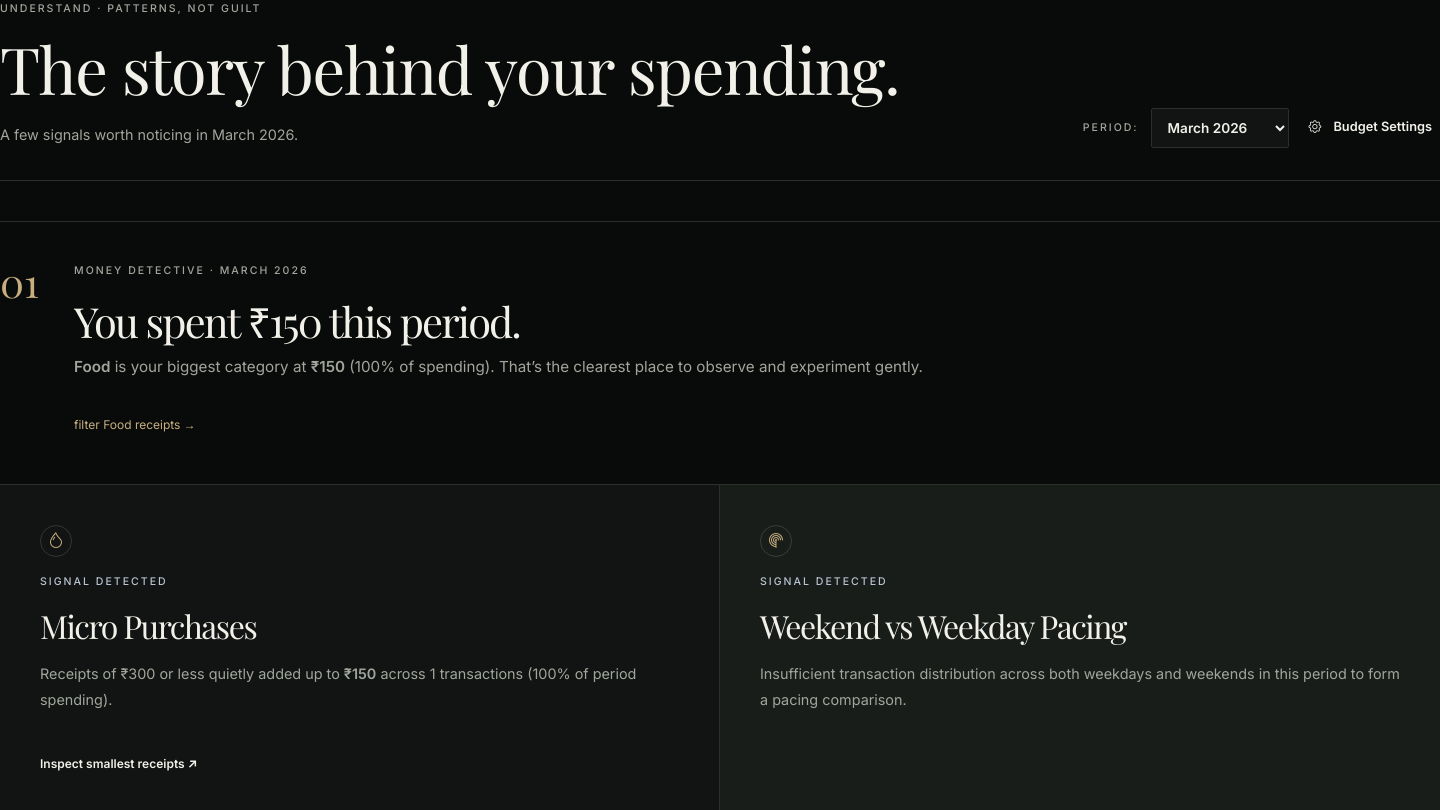
Scenario: Audit fixes › preserves the selected period when opening an insight in the ledger
Step 1. Click the button "filter Food receipts →" → [135, 424], box [74,404,196,444]
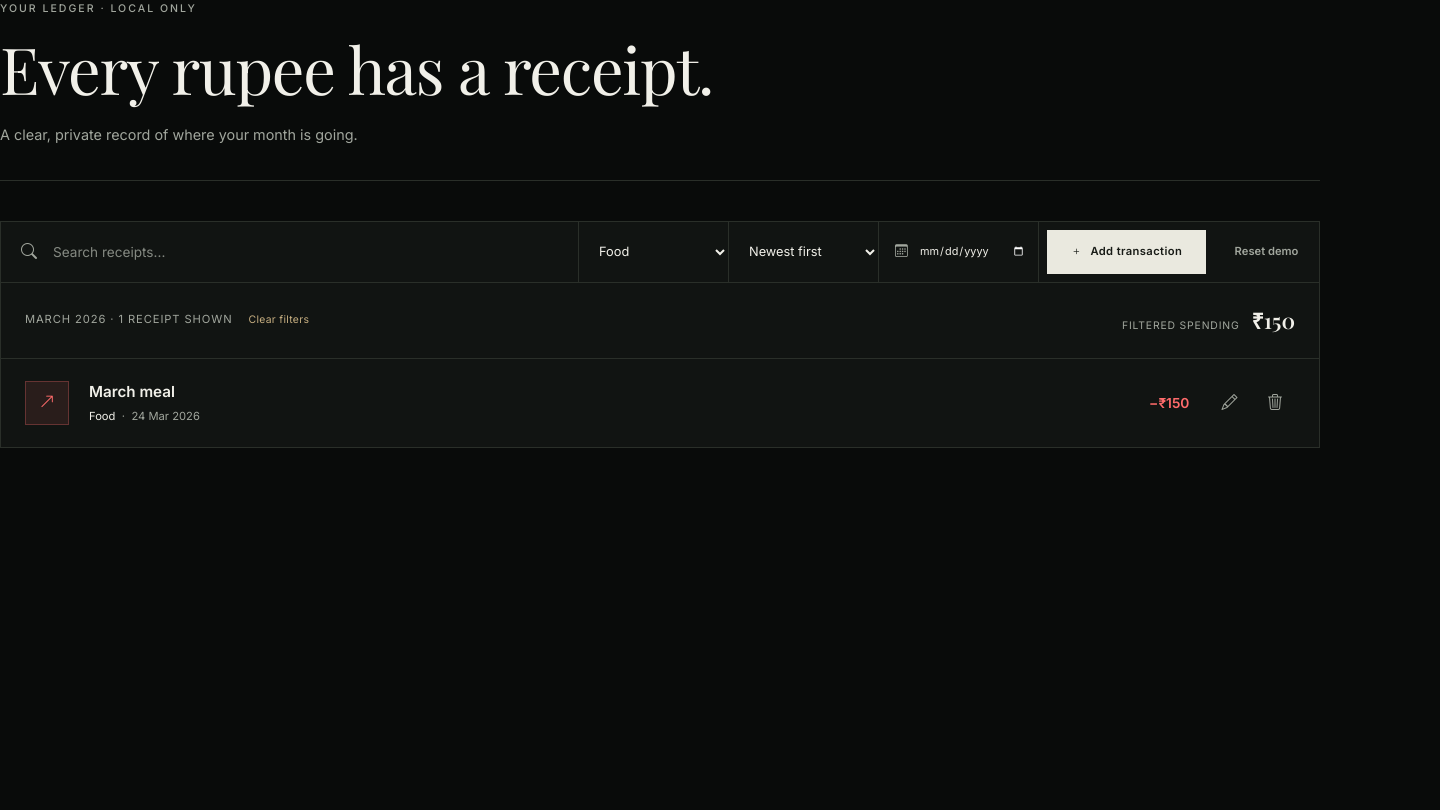
Check: the text "March meal" is shown, box [89,382,175,400]
